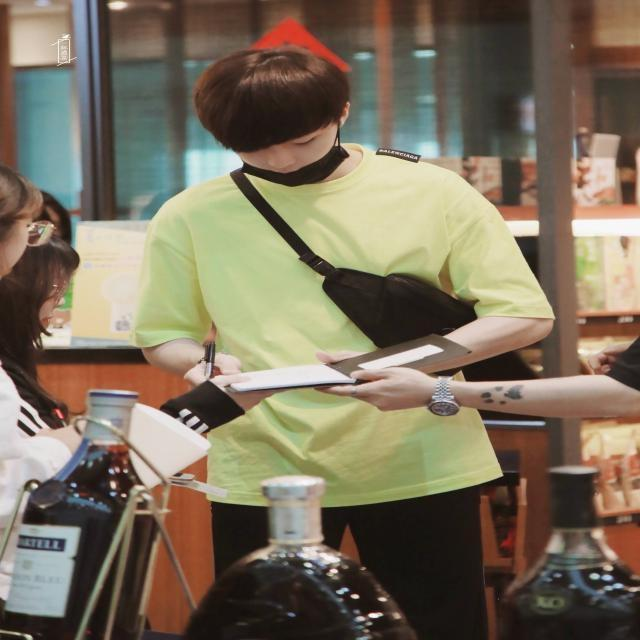hairnet: (228, 132, 336, 186)
